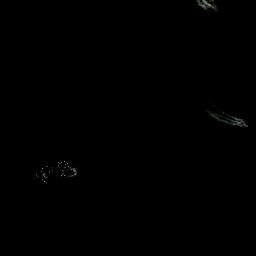boat: (34, 156, 76, 185), (240, 118, 248, 126)
